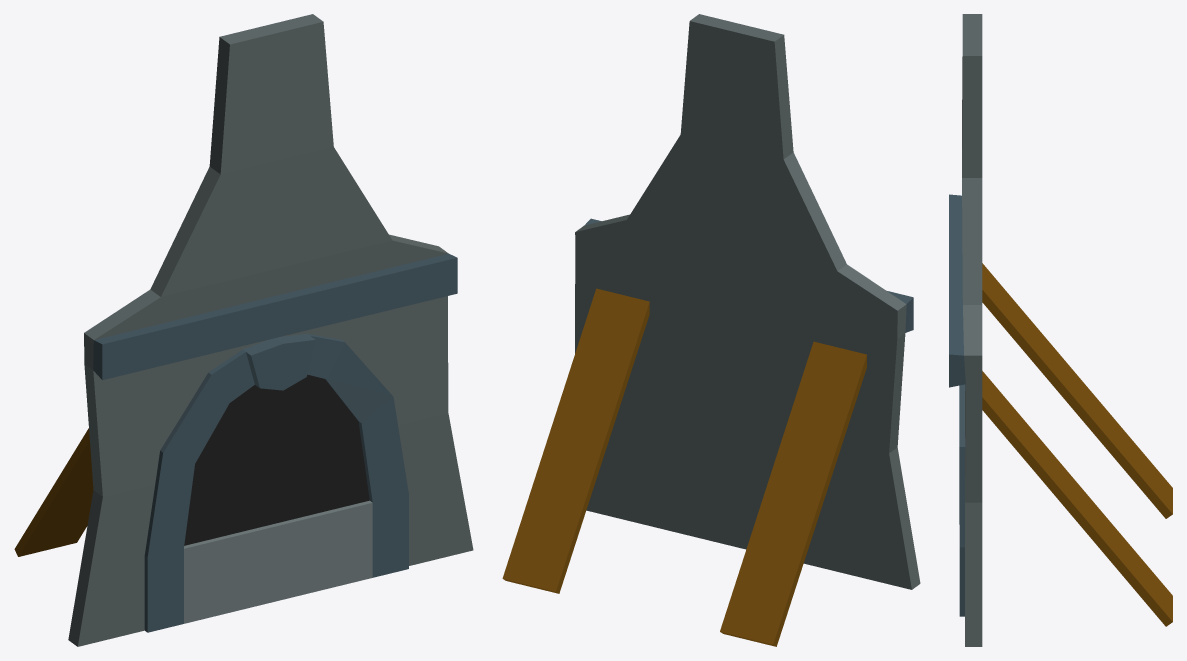
The model's file is Forja_Carton.FBX.
3 renders of one model, left to right at view 1: azimuth 30°, elevation 25°; view 2: azimuth 150°, elevation 25°; view 3: azimuth 270°, elevation 25°, orthographic. The views are drawn at different scales.
Visible parts, largest first — view 1: Forja_Carton001; view 2: Forja_Carton001; view 3: Forja_Carton001.
Boxes of the visible parts, x1,y1,x2,y2 form: Forja_Carton001: (14,14,473,646); Forja_Carton001: (502,14,920,646); Forja_Carton001: (949,14,1172,646).
Size of the model in its own units: 59.44 by 31.54 by 81.56.
